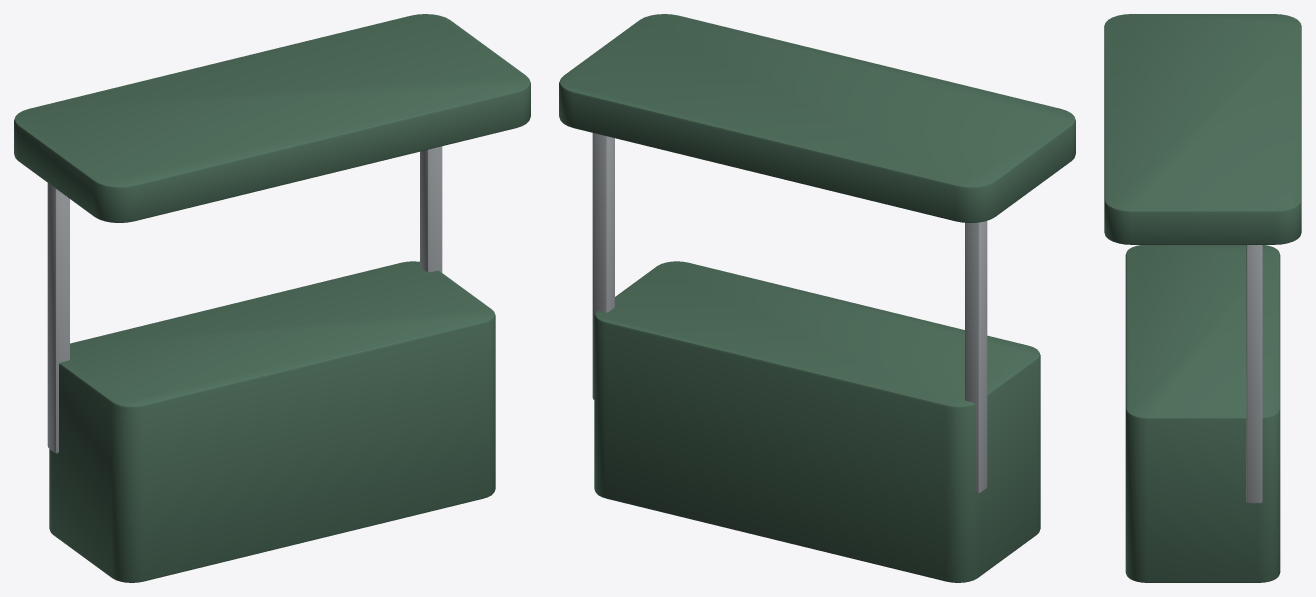
Rendered from bag_drop_station_public.glb.
The picture shows the model from 3 angles, left to right: view 1: azimuth 30°, elevation 25°; view 2: azimuth 150°, elevation 25°; view 3: azimuth 270°, elevation 25°; orthographic projection. The views are drawn at different scales.
Visible parts, largest first — view 1: BagDrop_Counter, BagDrop_Canopy, BagDrop_CanopyPost_L, BagDrop_CanopyPost_R; view 2: BagDrop_Counter, BagDrop_Canopy, BagDrop_CanopyPost_L, BagDrop_CanopyPost_R; view 3: BagDrop_Counter, BagDrop_Canopy, BagDrop_CanopyPost_R.
Boxes of the visible parts, <box> form: BagDrop_Counter: <box>49,261,495,582</box>; BagDrop_Canopy: <box>14,14,530,222</box>; BagDrop_CanopyPost_L: <box>47,183,69,453</box>; BagDrop_CanopyPost_R: <box>420,146,442,272</box>; BagDrop_Counter: <box>594,261,1040,582</box>; BagDrop_Canopy: <box>559,14,1075,222</box>; BagDrop_CanopyPost_L: <box>965,221,987,493</box>; BagDrop_CanopyPost_R: <box>592,133,614,399</box>; BagDrop_Counter: <box>1125,245,1280,582</box>; BagDrop_Canopy: <box>1104,14,1301,244</box>; BagDrop_CanopyPost_R: <box>1246,245,1262,503</box>.
Size of what is drawn, in the model's own units: 1.7 by 1.54 by 0.7176.
